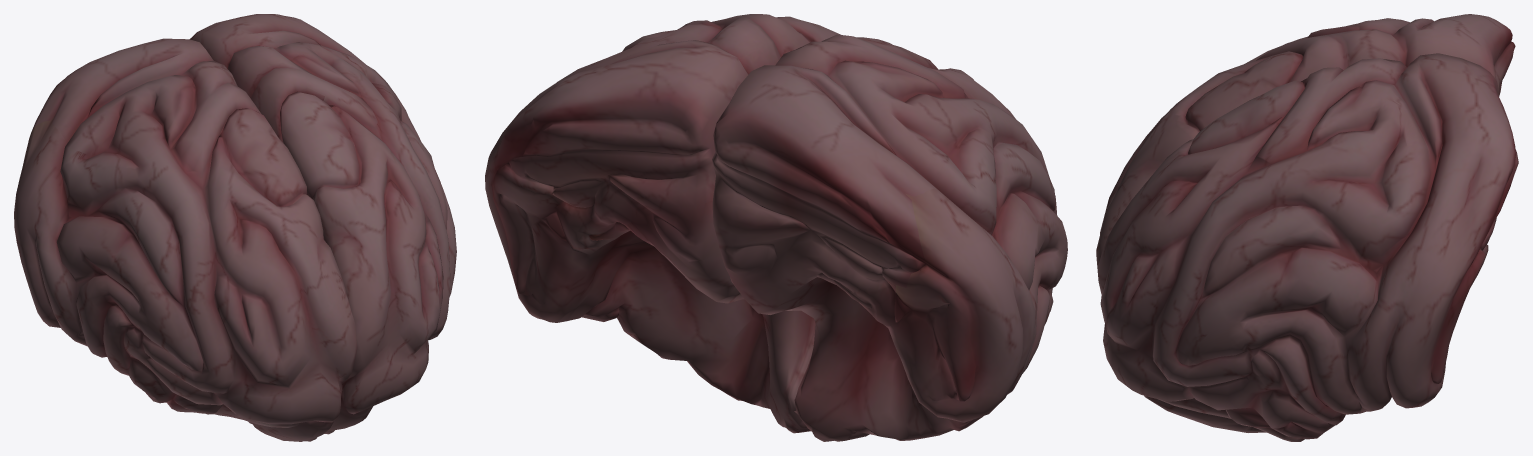
The model's file is Frontal Lobe.gltf.
3 views of the same model, side by side, from view 1: azimuth 30°, elevation 25°; view 2: azimuth 150°, elevation 25°; view 3: azimuth 270°, elevation 25° (orthographic). The views are drawn at different scales.
Parts seen in each view (by area): view 1: Frontal_Lobe_Right, Frontal_Lobe_Left; view 2: Frontal_Lobe_Right, Frontal_Lobe_Left; view 3: Frontal_Lobe_Left, Frontal_Lobe_Right.
Part boxes in pixels (box(x1,y1,x2,y2)): Frontal_Lobe_Right: box(14, 38, 357, 441); Frontal_Lobe_Left: box(190, 14, 456, 434); Frontal_Lobe_Right: box(712, 34, 1067, 441); Frontal_Lobe_Left: box(485, 14, 840, 433); Frontal_Lobe_Left: box(1098, 53, 1518, 441); Frontal_Lobe_Right: box(1096, 14, 1515, 322).
Bounding box in the file's own units: 12.04 × 9.82 × 9.85.
Materials: 1 (1 with a texture image).
